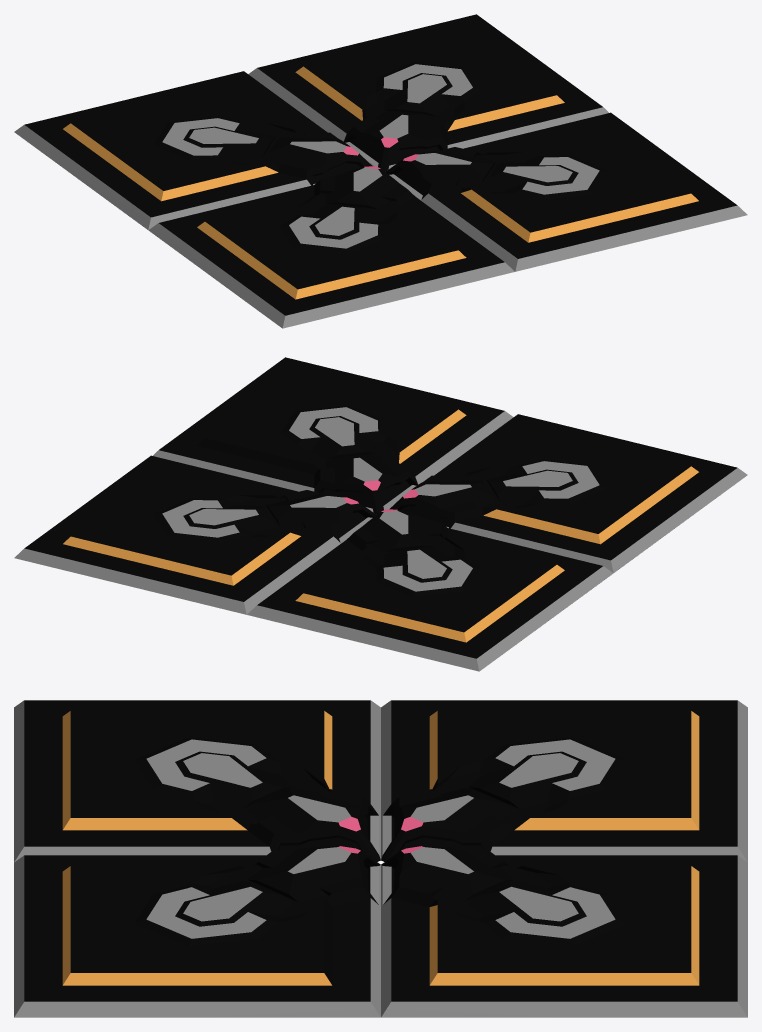
File: floor_01.glb
3 views of the same model, one above another, from view 1: azimuth 30°, elevation 25°; view 2: azimuth 150°, elevation 25°; view 3: azimuth 270°, elevation 25° (orthographic). The views are drawn at different scales.
Parts seen in each view (by area): view 1: Solid 12; view 2: Solid 12; view 3: Solid 12, Solid 12.001.
Boxes of the visible parts, left/top/right/bottom form: Solid 12: left=14, top=14, right=747, bottom=328; Solid 12: left=14, top=357, right=747, bottom=671; Solid 12: left=14, top=700, right=747, bottom=1017; Solid 12.001: left=338, top=817, right=423, bottom=853.
Size of what is drawn, in the model's own units: 16 by 0.671 by 16.
2 materials, 2 textured.
